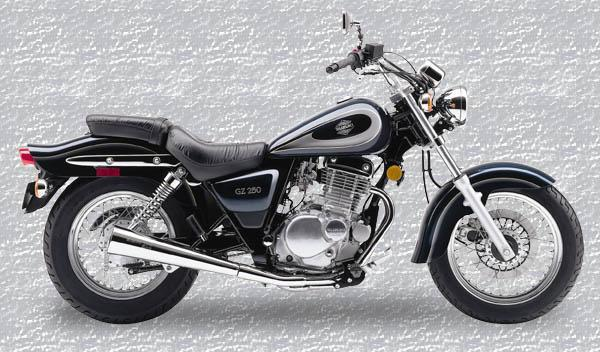motorcycle: (10, 1, 600, 336)
